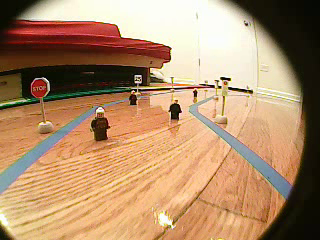Person: (90, 107, 111, 142), (169, 98, 182, 122), (129, 90, 138, 106), (193, 87, 197, 97)
Red Traffic Light: (220, 77, 230, 97)
Stop Sign: (30, 78, 51, 98)
